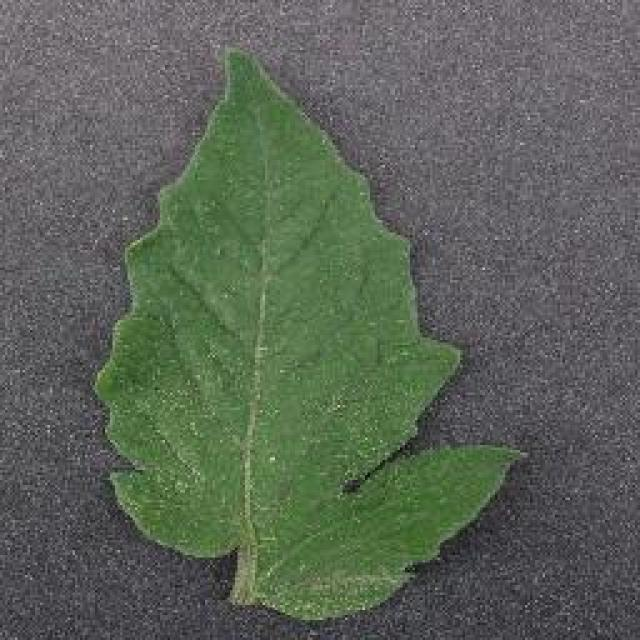Healthy: (78, 30, 530, 635)
